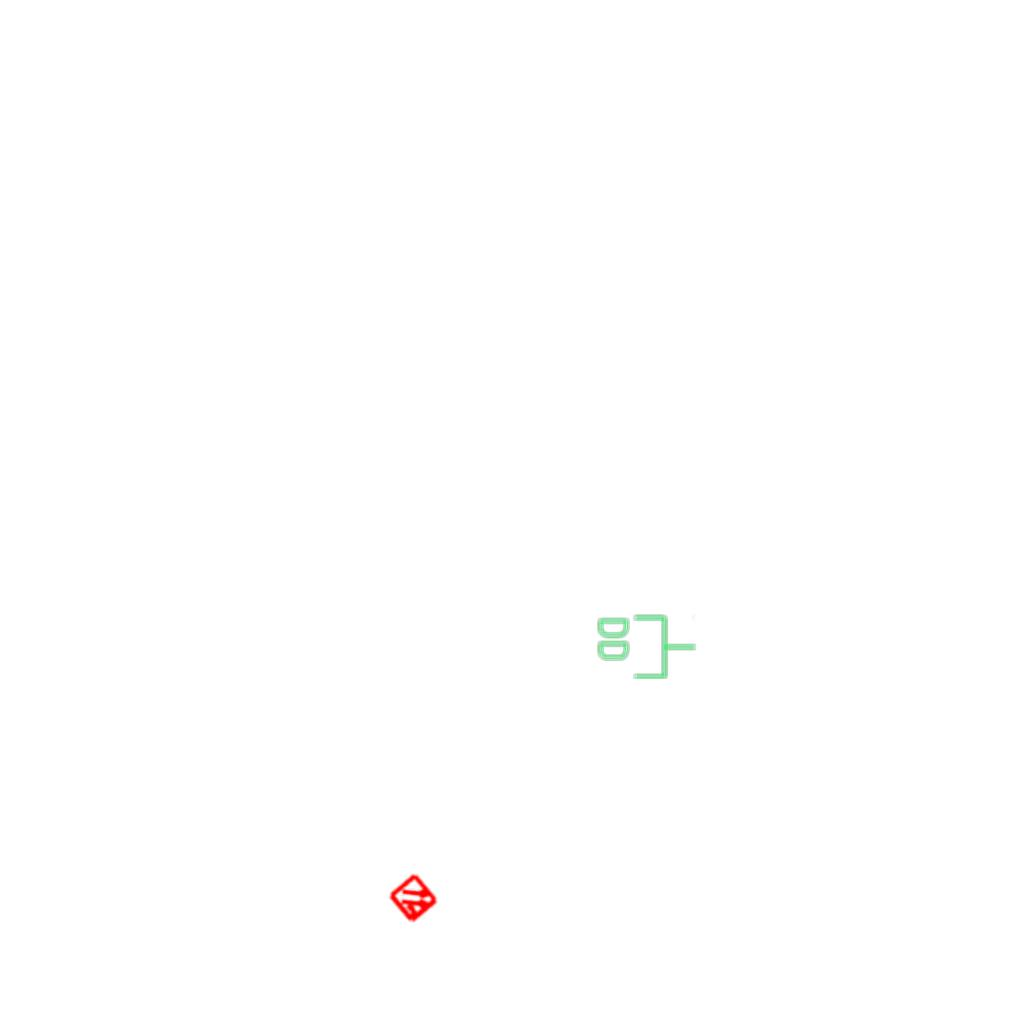Datenanschluss_zweifach: (595, 612, 698, 681)
OT_Multisensormelder_(Kombination_RMO_WMD): (374, 859, 454, 939)
